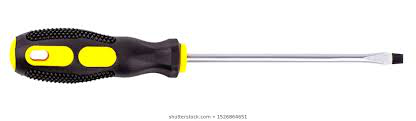screwdriver: (2, 18, 416, 102)
